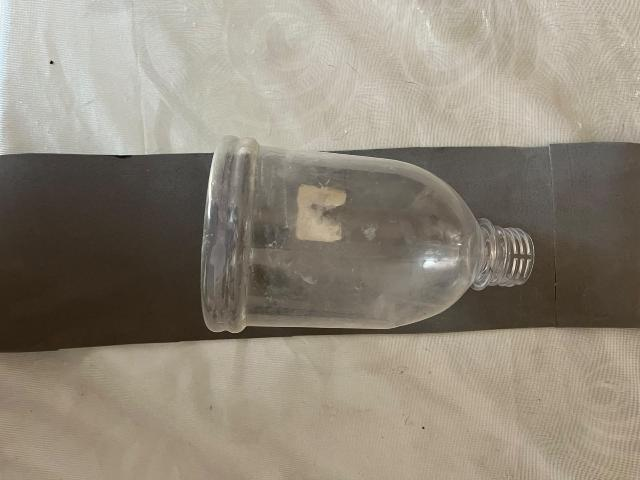PET: (161, 96, 567, 385)
